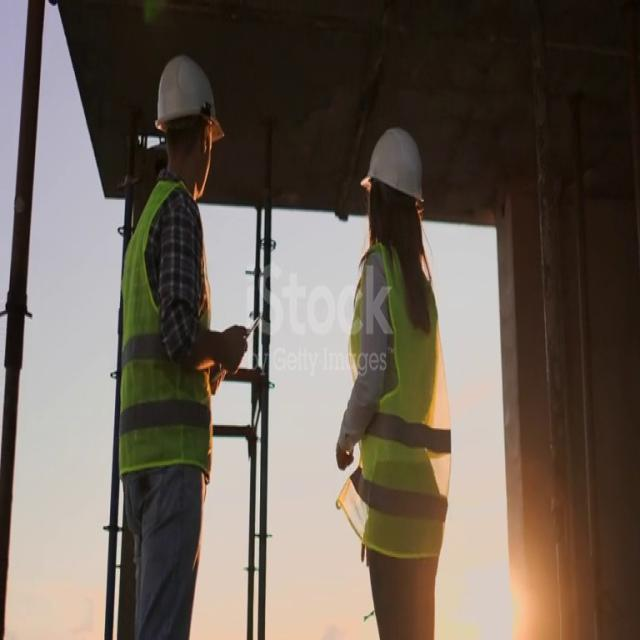capacete: (134, 53, 241, 147), (352, 114, 437, 224)
